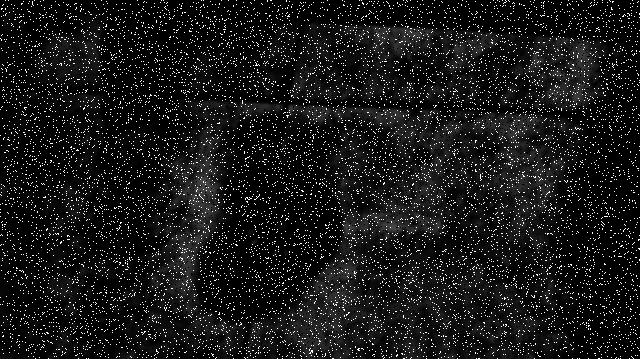pot: (228, 177, 342, 287)
